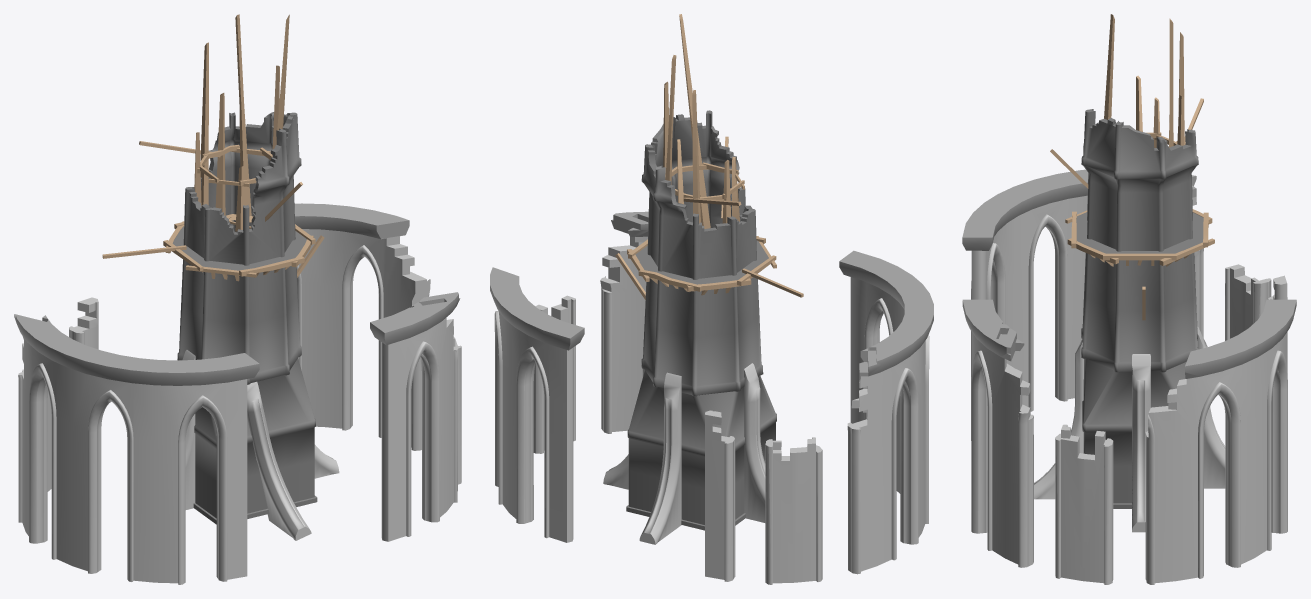
Rendered from Tower 2.fbx.
3 views of the same model, side by side, from view 1: azimuth 30°, elevation 25°; view 2: azimuth 150°, elevation 25°; view 3: azimuth 270°, elevation 25° (orthographic). The views are drawn at different scales.
Parts seen in each view (by area): view 1: Tower; view 2: Tower; view 3: Tower.
Part boxes in pixels (bbox=[...]): Tower: bbox=[14, 14, 461, 584]; Tower: bbox=[490, 14, 933, 584]; Tower: bbox=[962, 14, 1296, 584].
Size of the model in its own units: 390 by 451 by 275.
